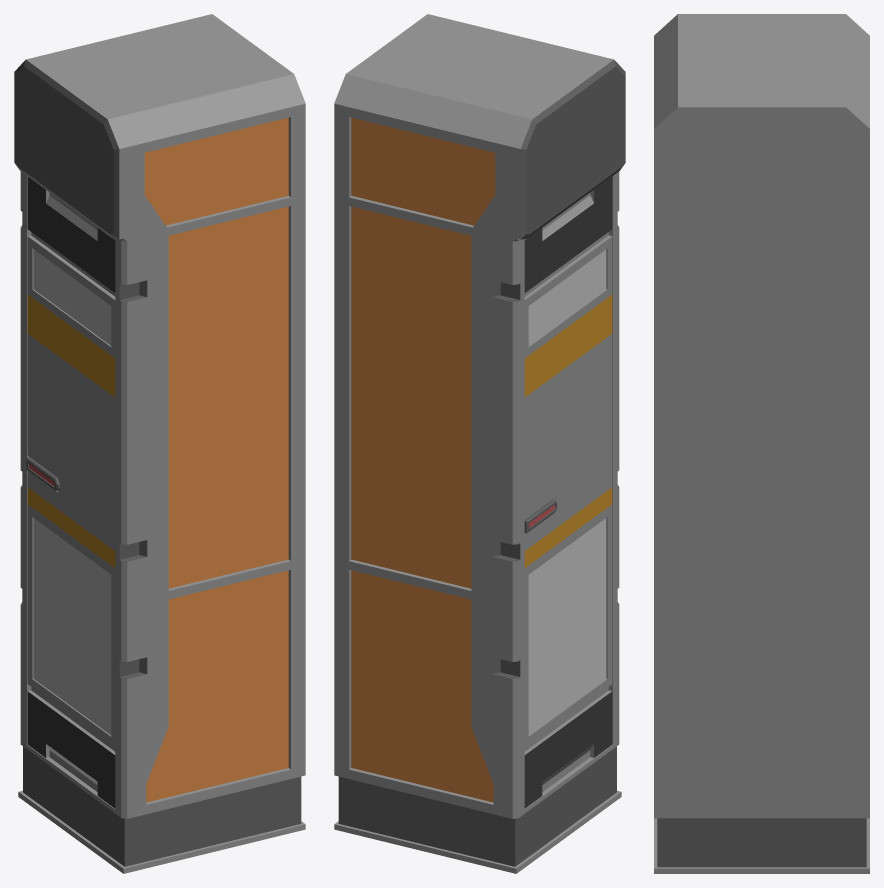
The model's file is Cabinet_01.FBX.
3 views of the same model, side by side, from view 1: azimuth 30°, elevation 25°; view 2: azimuth 150°, elevation 25°; view 3: azimuth 270°, elevation 25° (orthographic). The views are drawn at different scales.
Parts seen in each view (by area): view 1: Cabinet_01_LOD0, Cabinet_01_Door_LOD0; view 2: Cabinet_01_LOD0, Cabinet_01_Door_LOD0; view 3: Cabinet_01_LOD0.
Part boxes in pixels (left/top/right/bottom): Cabinet_01_LOD0: left=14, top=14, right=305, bottom=873; Cabinet_01_Door_LOD0: left=26, top=177, right=115, bottom=808; Cabinet_01_LOD0: left=334, top=14, right=625, bottom=873; Cabinet_01_Door_LOD0: left=524, top=177, right=612, bottom=808; Cabinet_01_LOD0: left=654, top=14, right=869, bottom=873.
Size of what is drawn, in the model's own units: 34.15 by 129 by 32.87.
